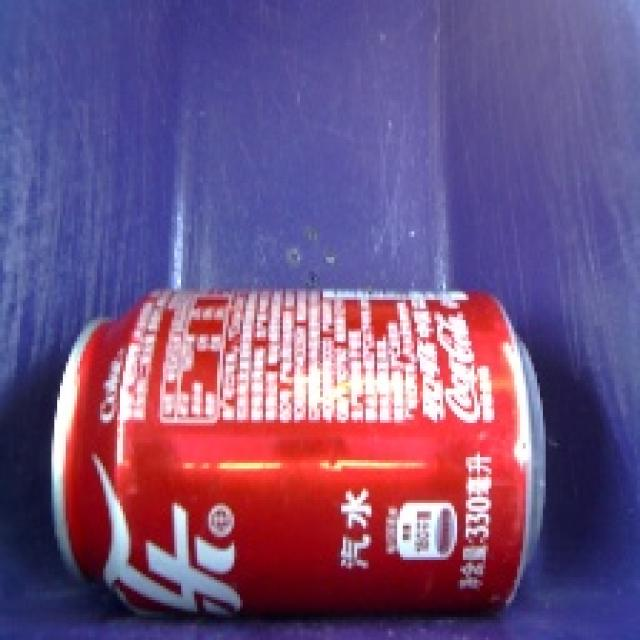metal: (31, 268, 576, 640)
